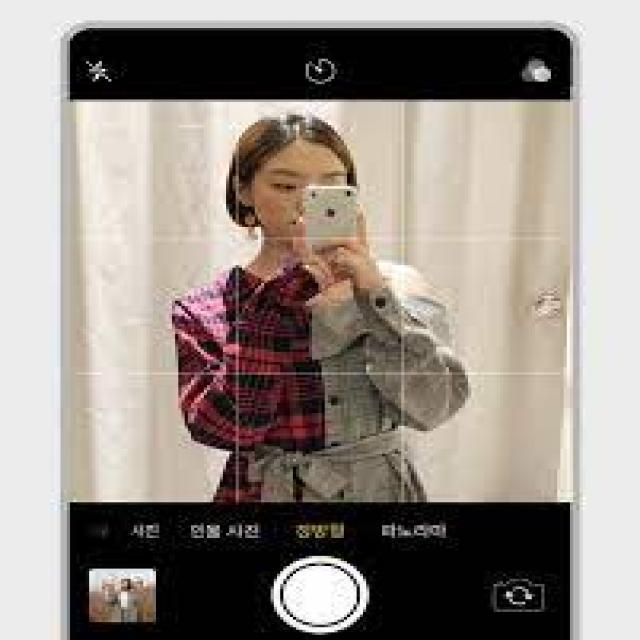Phone: (301, 183, 359, 259)
